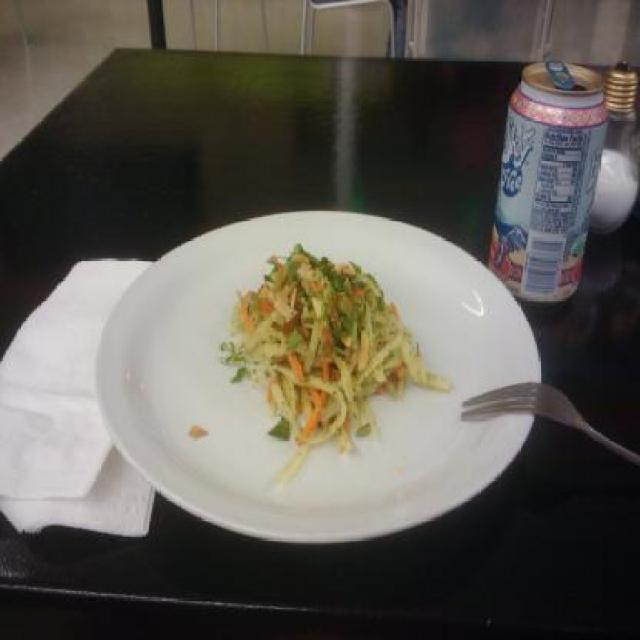Salad: (210, 236, 461, 487)
